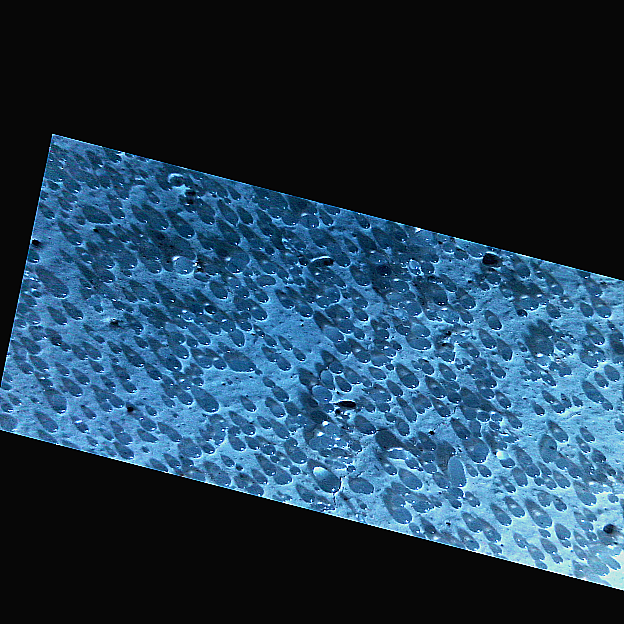GrassBeadSeg: (57, 153, 572, 533), (124, 266, 621, 565), (137, 155, 552, 506), (31, 330, 622, 570), (119, 326, 609, 575), (26, 239, 463, 499), (140, 265, 528, 545), (191, 261, 598, 522), (71, 309, 553, 528), (69, 234, 412, 524), (69, 310, 513, 533), (146, 262, 607, 470), (60, 202, 438, 451), (38, 295, 530, 486), (181, 225, 484, 527), (200, 241, 566, 487), (258, 281, 593, 540), (261, 219, 623, 455), (20, 216, 566, 370), (288, 215, 541, 530), (49, 304, 533, 467), (172, 286, 602, 464), (222, 246, 565, 465), (164, 263, 464, 509), (93, 239, 490, 421), (177, 226, 447, 490), (226, 262, 544, 486), (222, 345, 569, 549), (111, 398, 574, 548), (225, 278, 554, 477), (170, 334, 571, 488), (100, 403, 551, 538), (319, 304, 614, 510), (89, 267, 427, 446), (235, 396, 559, 570), (147, 158, 342, 435), (169, 338, 517, 493), (122, 270, 529, 402), (228, 360, 504, 554), (274, 393, 623, 541), (395, 231, 546, 562), (300, 312, 560, 502), (130, 231, 408, 408), (454, 252, 613, 561), (292, 277, 513, 495), (121, 377, 583, 478), (255, 374, 598, 506), (280, 408, 563, 564), (129, 356, 492, 477), (231, 262, 438, 473), (137, 339, 610, 429), (118, 286, 563, 381), (369, 253, 551, 485), (179, 250, 476, 390), (252, 309, 569, 440), (328, 269, 591, 424), (354, 275, 541, 477), (152, 296, 549, 391), (88, 239, 395, 360), (127, 360, 569, 443), (99, 273, 315, 439), (119, 343, 432, 455), (189, 264, 369, 458), (153, 380, 467, 488), (232, 366, 428, 532), (270, 242, 414, 463), (197, 358, 403, 510), (440, 299, 559, 553), (331, 361, 596, 475), (1, 331, 365, 413), (338, 344, 519, 507), (247, 219, 372, 449), (163, 306, 610, 370), (435, 336, 604, 501), (141, 300, 353, 431), (302, 236, 447, 424), (55, 236, 223, 393), (88, 330, 390, 417), (337, 321, 515, 467), (270, 265, 391, 474), (370, 370, 556, 505), (266, 332, 584, 408), (212, 288, 421, 403), (344, 309, 612, 385), (21, 332, 481, 375), (174, 310, 562, 359), (93, 319, 504, 365), (398, 272, 572, 376), (113, 398, 335, 476), (424, 446, 592, 548), (400, 376, 514, 526), (214, 359, 544, 410), (440, 330, 581, 448), (370, 424, 503, 542), (178, 310, 524, 355), (413, 268, 574, 363), (43, 404, 565, 433), (516, 368, 599, 548), (378, 404, 480, 550), (387, 295, 462, 488), (234, 257, 410, 338), (437, 408, 569, 512), (132, 322, 245, 441), (510, 379, 604, 518), (415, 407, 571, 489), (199, 356, 309, 463), (392, 280, 477, 418), (155, 360, 257, 470), (254, 362, 343, 485), (225, 206, 342, 299), (283, 239, 532, 278), (330, 307, 596, 343), (35, 249, 160, 323), (176, 255, 298, 329), (266, 353, 352, 455), (241, 281, 350, 361), (244, 403, 473, 441), (219, 320, 354, 384), (385, 361, 488, 442), (183, 393, 377, 435), (363, 403, 594, 437), (50, 284, 368, 308), (28, 253, 140, 312), (25, 299, 590, 310), (147, 379, 215, 468), (399, 399, 517, 450), (171, 257, 392, 284), (198, 388, 444, 412), (226, 233, 327, 290), (354, 278, 432, 351), (493, 368, 552, 463), (282, 464, 400, 510), (542, 333, 623, 400), (523, 369, 623, 423), (149, 370, 228, 438), (2, 420, 150, 456), (37, 362, 116, 428), (278, 207, 355, 272), (194, 174, 297, 221), (577, 464, 623, 569), (138, 171, 231, 222), (120, 395, 192, 460), (16, 318, 119, 363), (418, 231, 486, 299), (92, 336, 212, 373), (86, 410, 170, 461), (406, 324, 482, 379), (314, 378, 485, 402), (95, 289, 249, 313), (14, 361, 86, 412), (186, 204, 296, 235), (38, 347, 123, 386), (422, 243, 501, 284), (482, 377, 567, 414), (297, 409, 353, 463), (482, 298, 541, 348), (377, 321, 450, 361), (166, 389, 386, 402), (241, 299, 332, 330), (566, 445, 616, 501), (423, 388, 503, 422), (349, 246, 413, 288), (56, 154, 126, 192), (132, 216, 215, 248), (80, 193, 161, 224), (120, 217, 170, 267), (278, 391, 389, 413), (391, 260, 445, 304), (320, 425, 354, 492), (340, 309, 379, 365), (405, 303, 423, 423), (405, 310, 477, 340), (262, 422, 299, 476), (113, 218, 161, 259), (41, 171, 80, 221), (409, 451, 442, 509), (215, 439, 251, 492), (527, 347, 600, 371), (204, 414, 256, 445), (384, 351, 454, 374), (278, 253, 334, 279), (1, 376, 50, 405), (544, 330, 574, 370), (593, 324, 623, 361), (575, 548, 619, 572), (469, 452, 487, 508), (251, 473, 292, 496), (335, 409, 350, 463), (26, 298, 40, 355), (264, 409, 302, 430), (349, 465, 376, 494), (83, 255, 138, 269), (407, 497, 429, 531), (442, 375, 486, 392), (322, 476, 367, 492), (230, 423, 255, 450), (282, 298, 313, 317), (589, 483, 618, 503), (417, 311, 438, 338), (257, 291, 290, 308), (531, 354, 551, 382), (490, 353, 512, 378), (155, 312, 197, 325), (372, 356, 394, 370), (319, 292, 340, 302), (303, 421, 307, 425), (447, 298, 448, 303)
